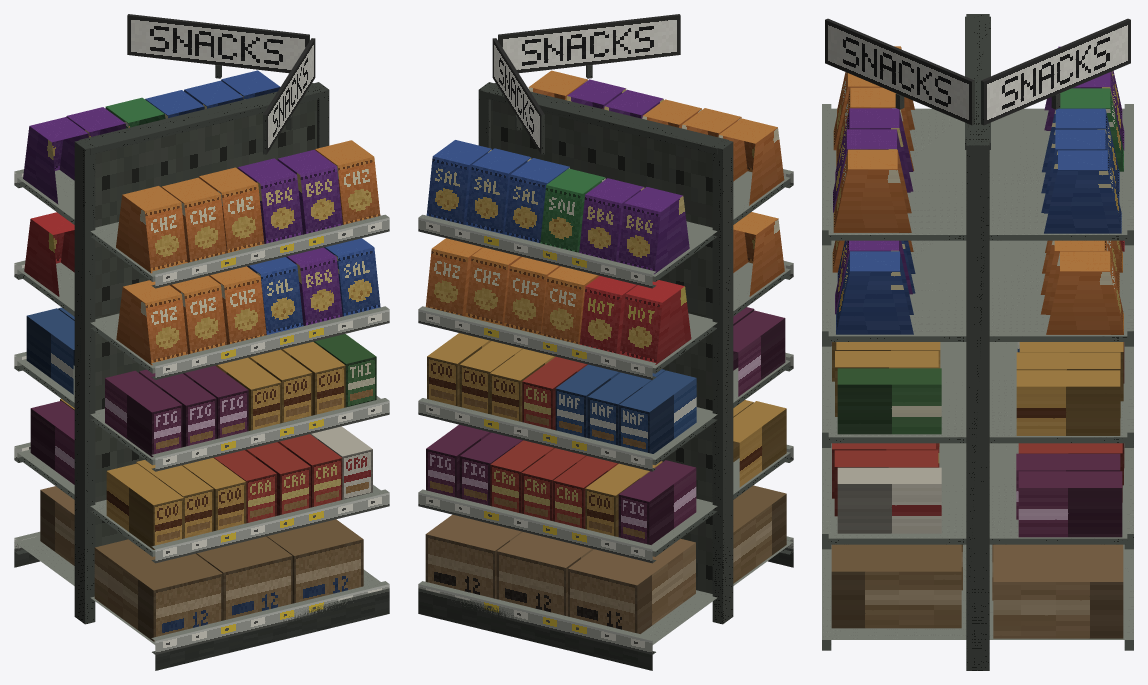
Rendered from gondola_snacks.glb.
The picture shows the model from 3 angles, left to right: view 1: azimuth 30°, elevation 25°; view 2: azimuth 150°, elevation 25°; view 3: azimuth 270°, elevation 25°; orthographic projection. The views are drawn at different scales.
Parts seen in each view (by area): view 1: GondolaSnacks; view 2: GondolaSnacks; view 3: GondolaSnacks.
Part boxes in pixels (x1,y1,x2,y2): GondolaSnacks: (14, 14, 389, 670); GondolaSnacks: (418, 14, 793, 670); GondolaSnacks: (822, 14, 1133, 670).
Size of what is drawn, in the model's own units: 1.2 by 2.47 by 1.2.
Materials: 1 (1 with a texture image).
